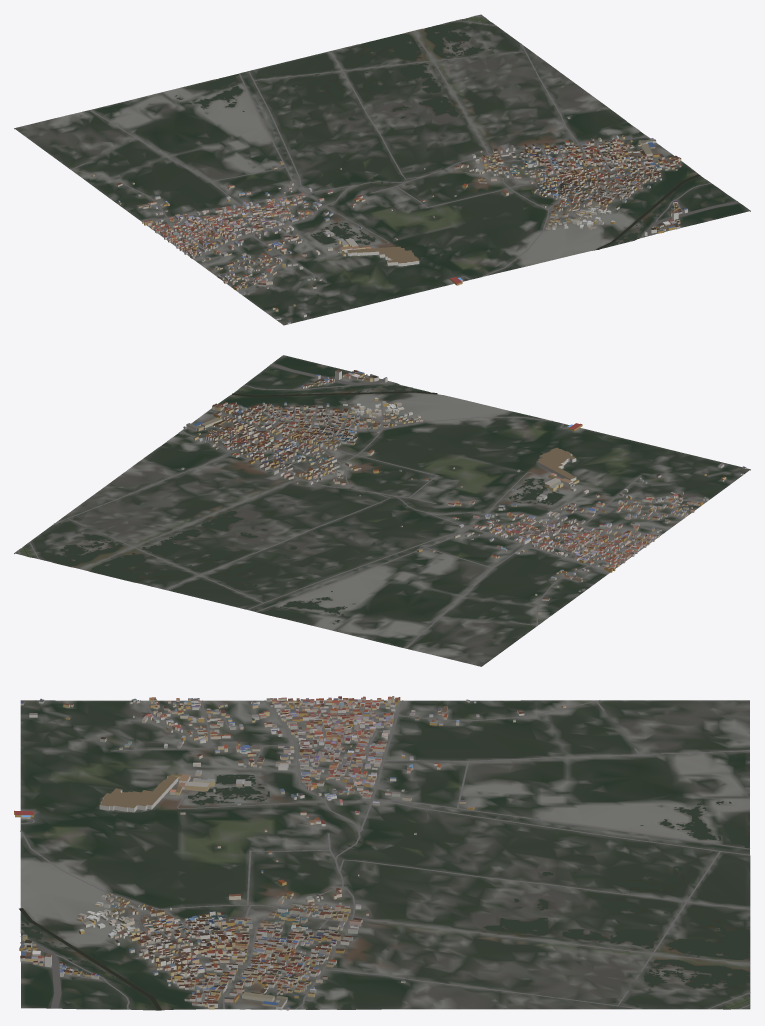
The picture shows the model from 3 angles, top to bottom: view 1: azimuth 30°, elevation 25°; view 2: azimuth 150°, elevation 25°; view 3: azimuth 270°, elevation 25°; orthographic projection. The views are drawn at different scales.
Visible parts, largest first — view 1: ground, buildings, water, roads; view 2: ground, buildings, water, roads; view 3: ground, buildings, water, roads.
Boxes of the visible parts, left/top/right/bottom form: ground: left=14, top=14, right=750, bottom=325; buildings: left=91, top=116, right=687, bottom=323; water: left=175, top=18, right=702, bottom=249; roads: left=69, top=15, right=738, bottom=293; ground: left=14, top=355, right=750, bottom=666; buildings: left=181, top=370, right=746, bottom=614; water: left=23, top=385, right=564, bottom=624; roads: left=17, top=363, right=706, bottom=648; ground: left=20, top=700, right=750, bottom=1010; buildings: left=14, top=696, right=566, bottom=1010; water: left=19, top=774, right=749, bottom=1010; roads: left=20, top=700, right=750, bottom=1009.
Size of the model in its own units: 1412 by 28.55 by 1416.
